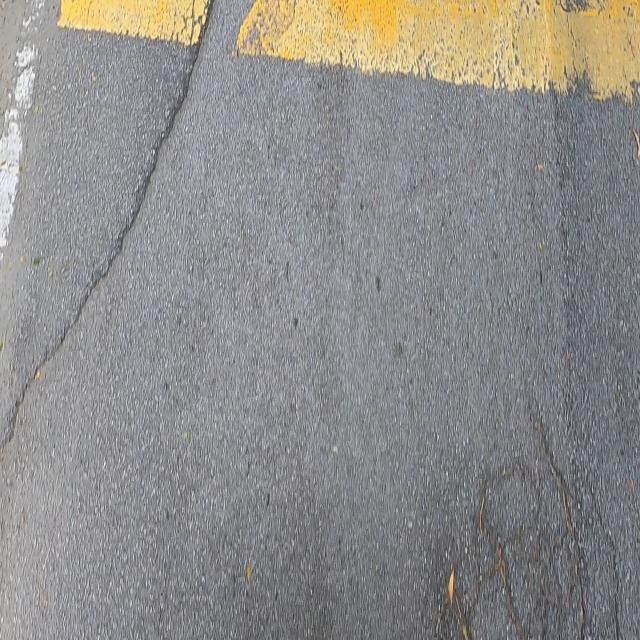Retak-Buaya: (443, 429, 626, 640)
Retak-Memanjang: (5, 3, 217, 443)
